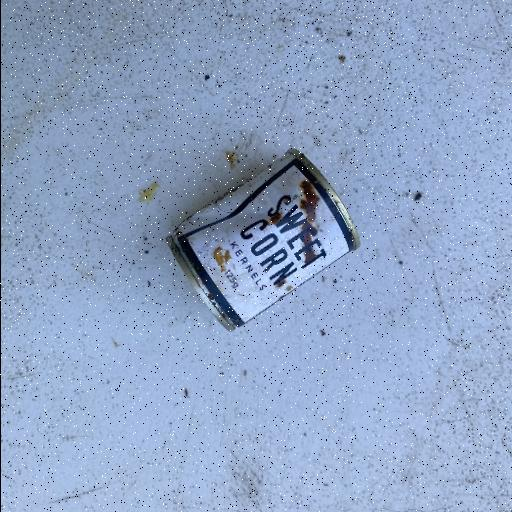Metal: (166, 146, 362, 332)
